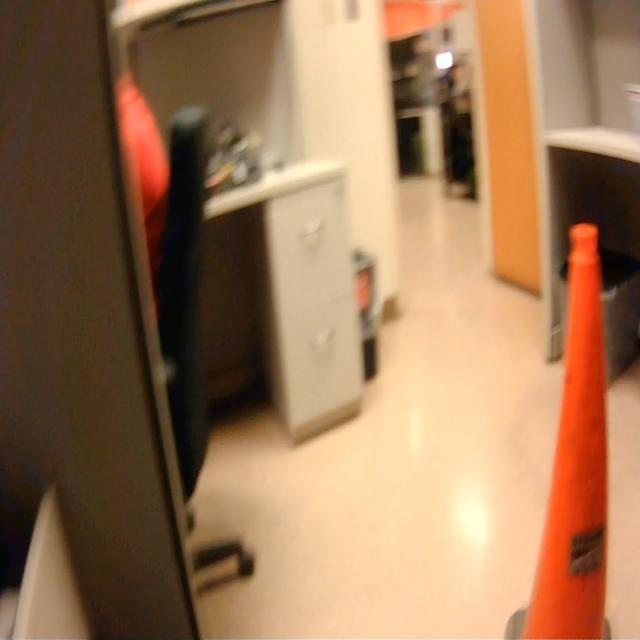traffic cone: (493, 215, 621, 640)
